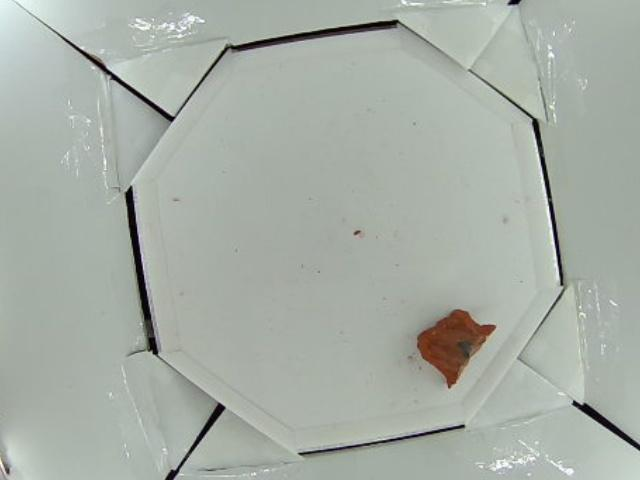Brisk: (418, 308, 495, 389)
